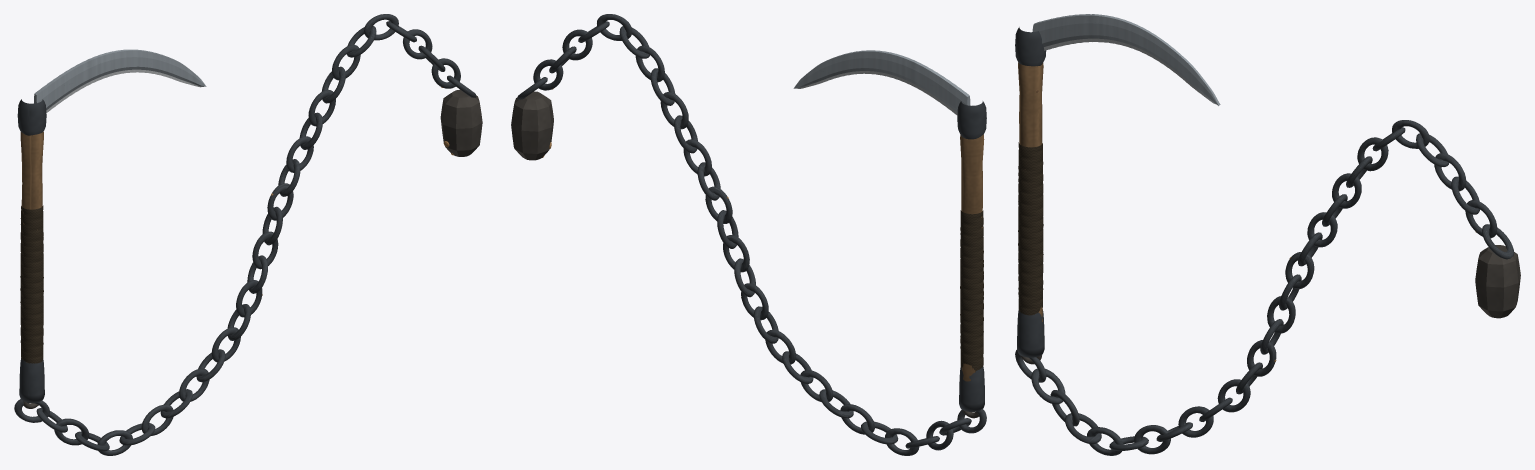
File: chain-sickle.glb
The picture shows the model from 3 angles, left to right: view 1: azimuth 30°, elevation 25°; view 2: azimuth 150°, elevation 25°; view 3: azimuth 330°, elevation 25°; orthographic projection. The views are drawn at different scales.
Parts seen in each view (by area): view 1: darksteel / oil-blackened fittings, cord / waxed silk cord wrap, steel / forged blade steel, iron / hammer-scaled wrought iron, wood / oiled hardwood, edge / honed bright bevel; view 2: darksteel / oil-blackened fittings, cord / waxed silk cord wrap, steel / forged blade steel, iron / hammer-scaled wrought iron, wood / oiled hardwood, edge / honed bright bevel; view 3: darksteel / oil-blackened fittings, cord / waxed silk cord wrap, steel / forged blade steel, iron / hammer-scaled wrought iron, wood / oiled hardwood, edge / honed bright bevel.
Part boxes in pixels (x1,y1,x2,y2): darksteel / oil-blackened fittings: (14,14,476,455); cord / waxed silk cord wrap: (20,205,43,363); steel / forged blade steel: (34,49,206,109); iron / hammer-scaled wrought iron: (23,89,482,408); wood / oiled hardwood: (20,132,43,362); edge / honed bright bevel: (46,69,203,112); darksteel / oil-blackened fittings: (517,14,986,455); cord / waxed silk cord wrap: (960,210,983,372); steel / forged blade steel: (793,50,970,112); iron / hammer-scaled wrought iron: (511,91,979,418); wood / oiled hardwood: (960,134,984,381); edge / honed bright bevel: (796,71,957,114); darksteel / oil-blackened fittings: (1015,27,1513,455); cord / waxed silk cord wrap: (1018,142,1043,315); steel / forged blade steel: (1032,14,1220,105); iron / hammer-scaled wrought iron: (1021,245,1520,364); wood / oiled hardwood: (1018,62,1043,321); edge / honed bright bevel: (1044,38,1216,104).
Bounding box in the file's own units: 0.7349 × 0.6007 × 0.0693.
8 materials, 6 textured.
